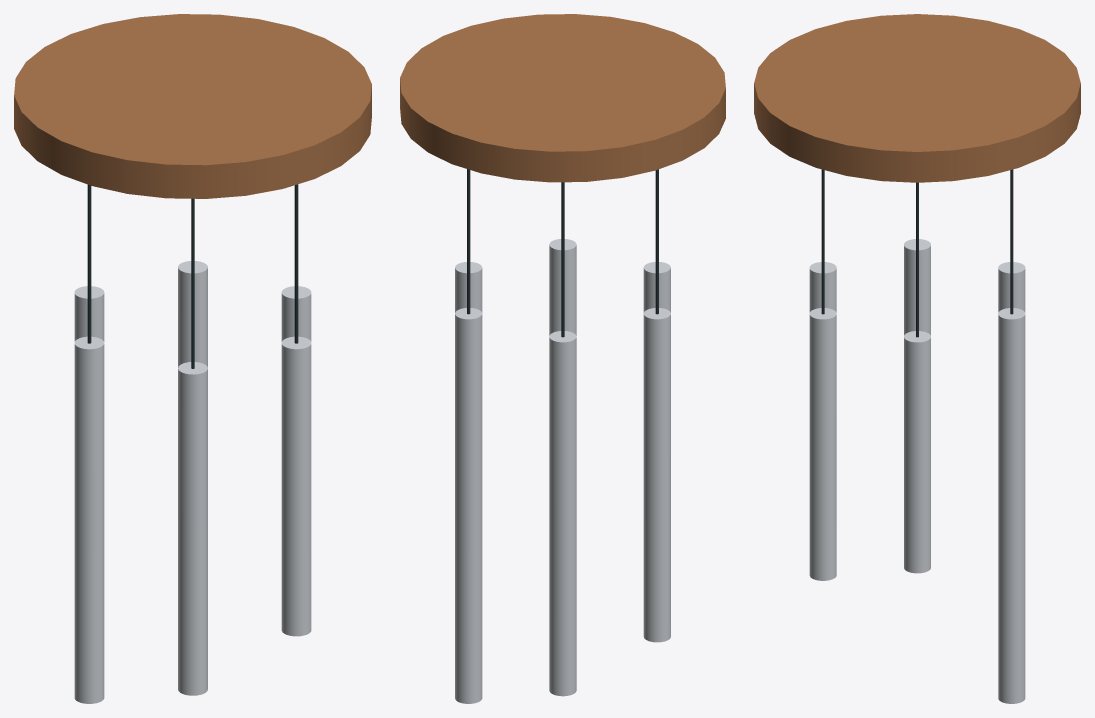
The model's file is wp-carillon-a-vent.glb.
3 renders of one model, left to right at view 1: azimuth 30°, elevation 25°; view 2: azimuth 150°, elevation 25°; view 3: azimuth 270°, elevation 25°, orthographic. The views are drawn at different scales.
Visible parts, largest first — view 1: wp-carillon-a-vent; view 2: wp-carillon-a-vent; view 3: wp-carillon-a-vent.
Boxes of the visible parts, x1,y1,x2,y2 form: wp-carillon-a-vent: (14,14,371,703); wp-carillon-a-vent: (400,14,725,703); wp-carillon-a-vent: (754,14,1080,703).
Size of the model in its own units: 0.3 by 0.6 by 0.3.
